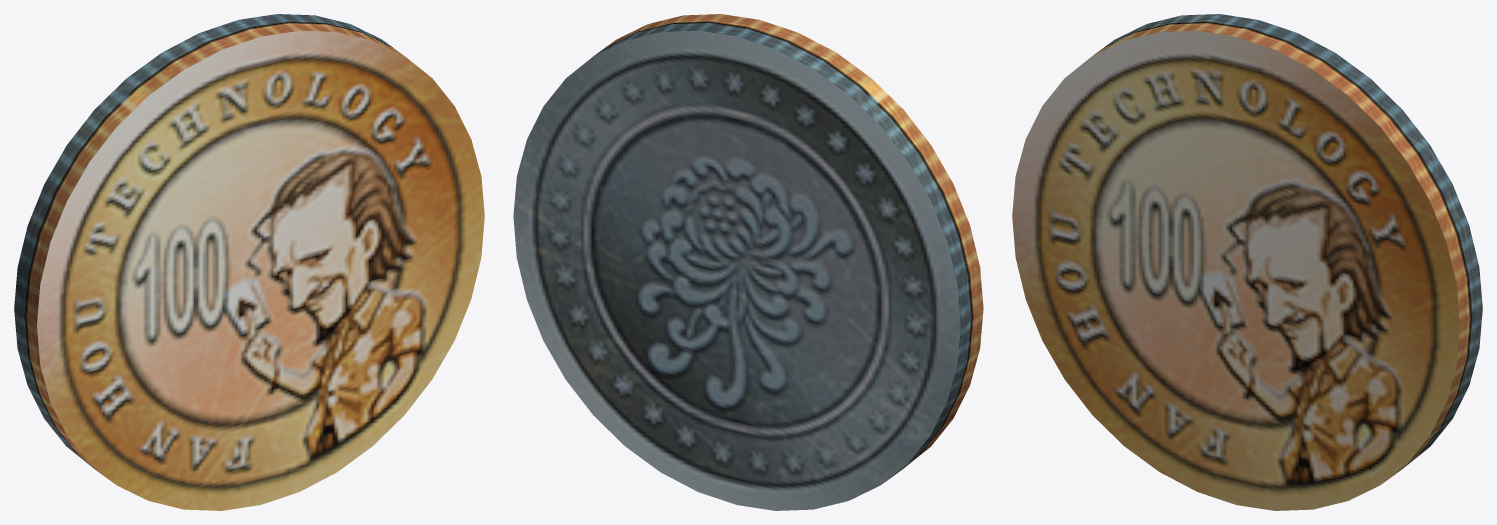
The model's file is Mod_coin_01.FBX.
3 renders of one model, left to right at view 1: azimuth 30°, elevation 25°; view 2: azimuth 150°, elevation 25°; view 3: azimuth 330°, elevation 25°, orthographic.
Parts seen in each view (by area): view 1: objYH_mod_qianBi20; view 2: objYH_mod_qianBi20; view 3: objYH_mod_qianBi20.
Part boxes in pixels (box(x1,y1,x2,y2)): objYH_mod_qianBi20: box(14, 14, 484, 510); objYH_mod_qianBi20: box(513, 14, 983, 510); objYH_mod_qianBi20: box(1012, 14, 1482, 510).
Bounding box in the file's own units: 10.02 × 10.02 × 0.8984.
